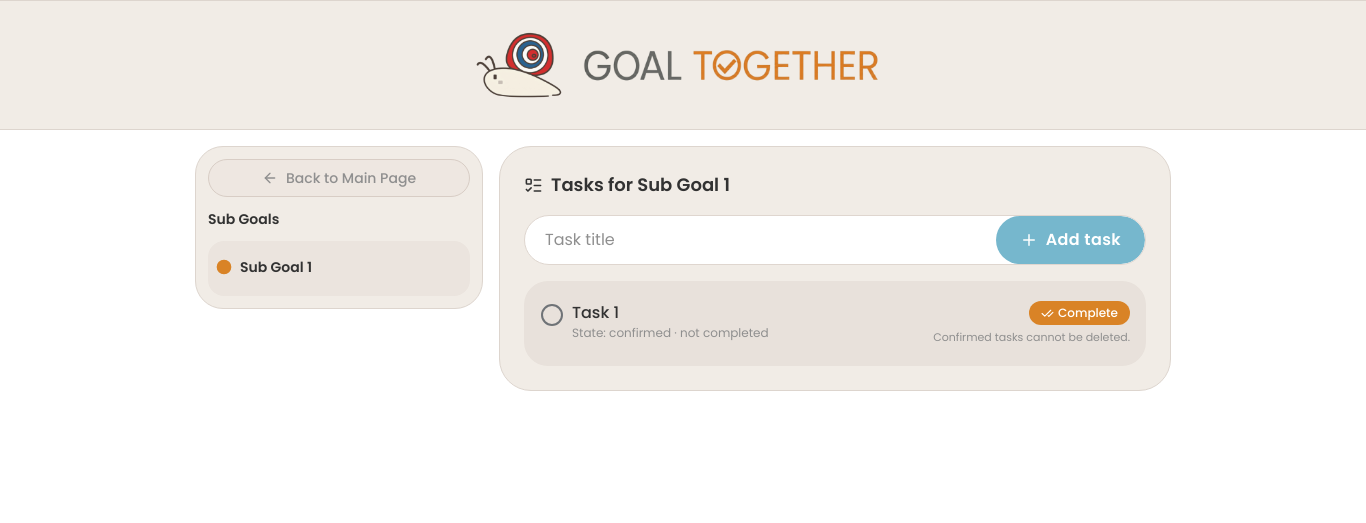
Test case: reward modal navigation persistence › keeps active modal visible across page navigation
Check: the heading "Tasks for Sub Goal 1" is shown, box 524,171 -> 730,199
Click the button "Complete".
click(1080, 313)  # box 1029,301 -> 1130,325
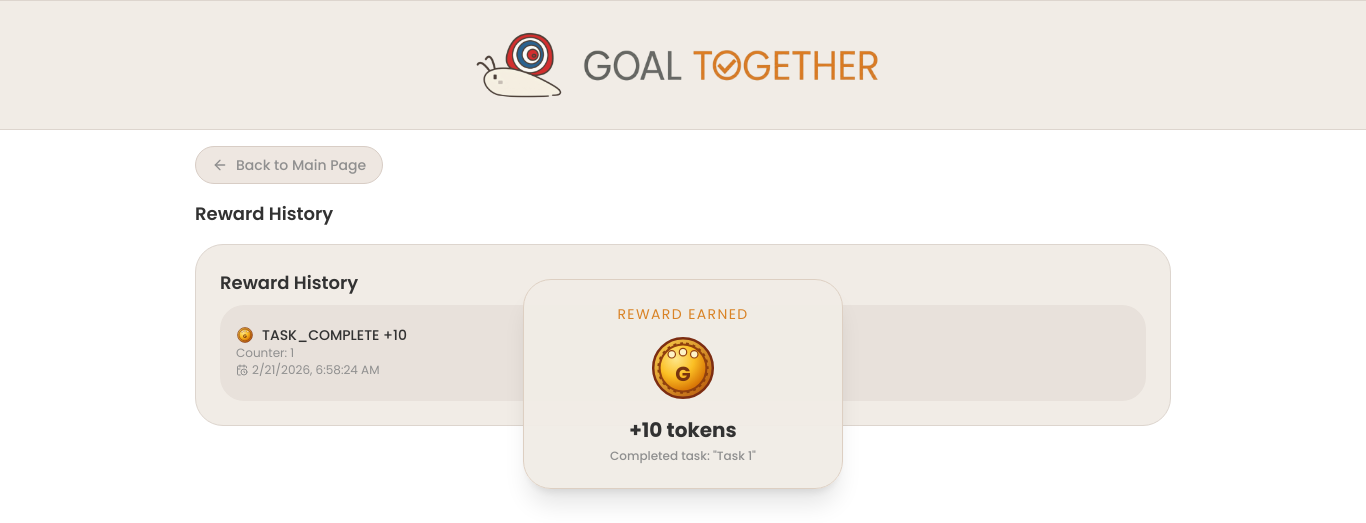
Check: the message "Reward Earned G +10 tokens Completed task: \"Task 1\"" is shown, box 523,279 -> 843,489
